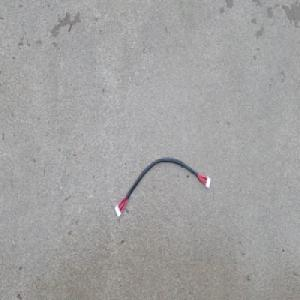Wire: (112, 155, 212, 220)
